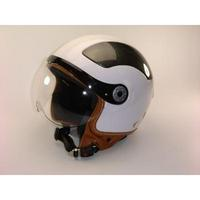helmet: (38, 40, 155, 152)
